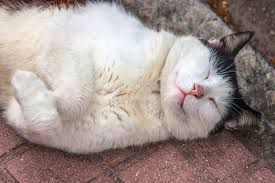cat: (153, 23, 269, 151)
